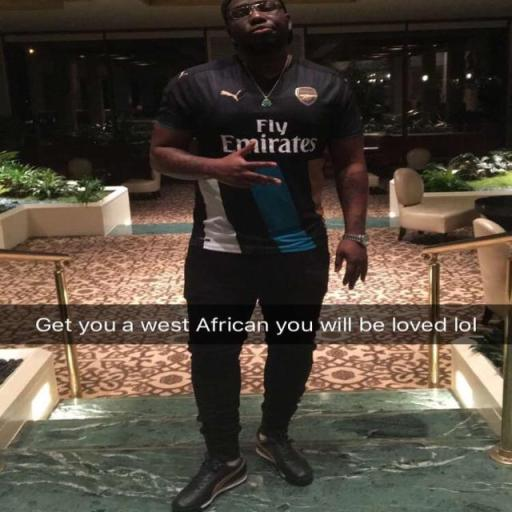Emirates: (222, 115, 320, 155)
